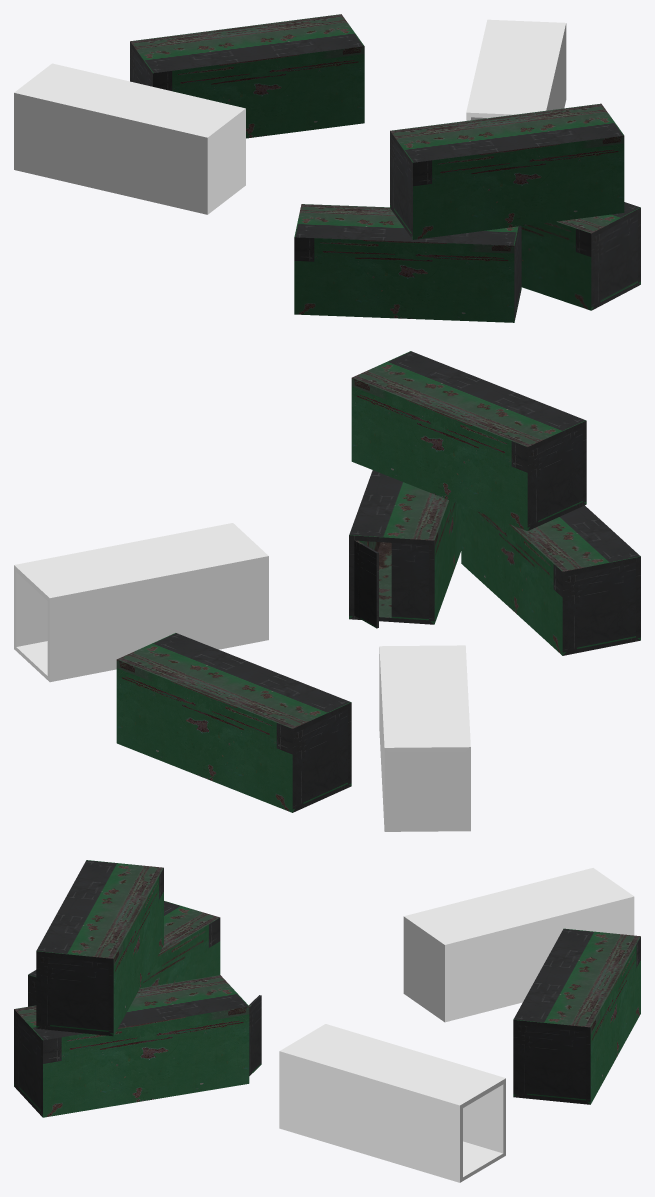
File: Container6_Closed1.fbx
3 renders of one model, top to bottom at view 1: azimuth 30°, elevation 25°; view 2: azimuth 150°, elevation 25°; view 3: azimuth 270°, elevation 25°, orthographic. The views are drawn at different scales.
Parts seen in each view (by area): view 1: Container6_Closed1; view 2: Container6_Closed1; view 3: Container6_Closed1.
Boxes of the visible parts, x1,y1,x2,y2 form: Container6_Closed1: (14, 14, 640, 322); Container6_Closed1: (14, 351, 640, 831); Container6_Closed1: (14, 860, 640, 1182).
Size of the model in its own units: 1700 by 1895 by 523.
